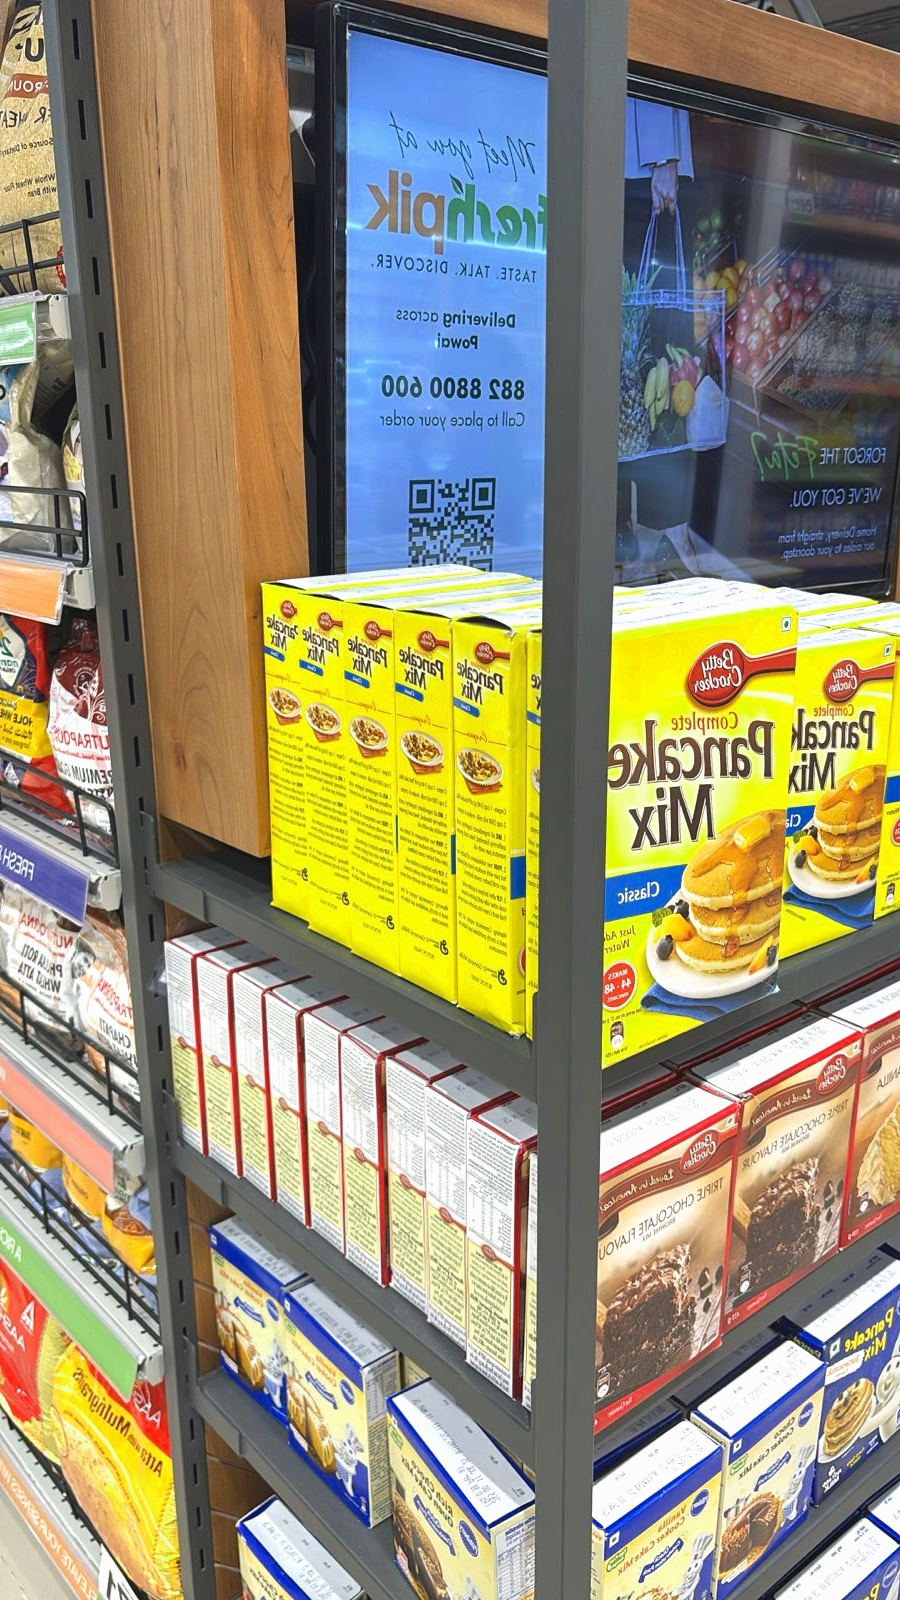Betty Crocker Pancake Mix: (530, 615, 800, 1056), (766, 627, 898, 970), (449, 618, 518, 1029), (400, 611, 455, 1000), (343, 599, 397, 978), (268, 579, 314, 914), (309, 593, 346, 944)
